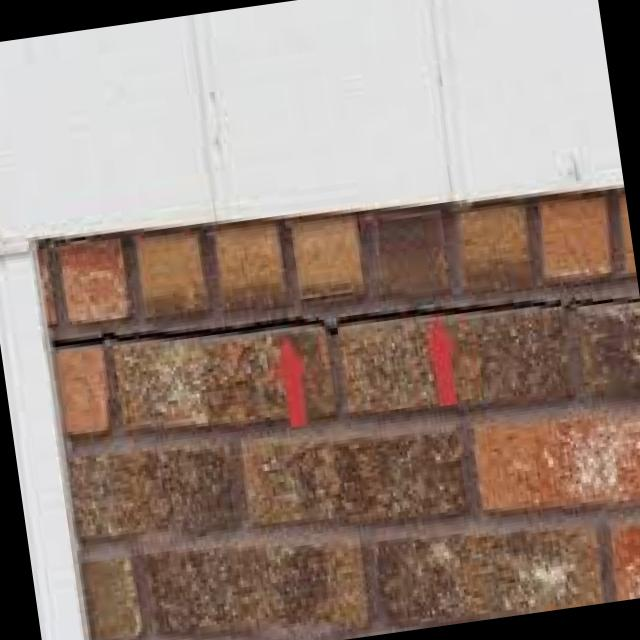crack: (49, 250, 638, 384)
